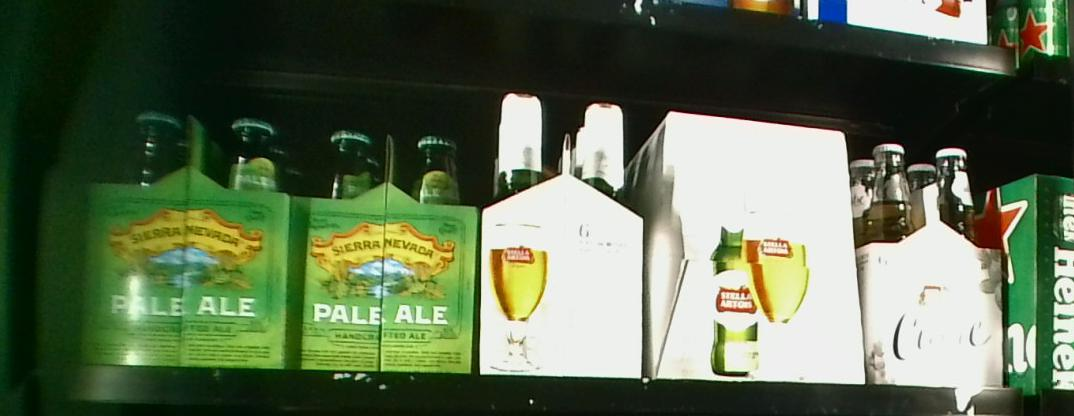bottle: (73, 110, 300, 366), (648, 108, 857, 385), (481, 83, 642, 376), (303, 114, 477, 373), (861, 139, 1002, 386)
